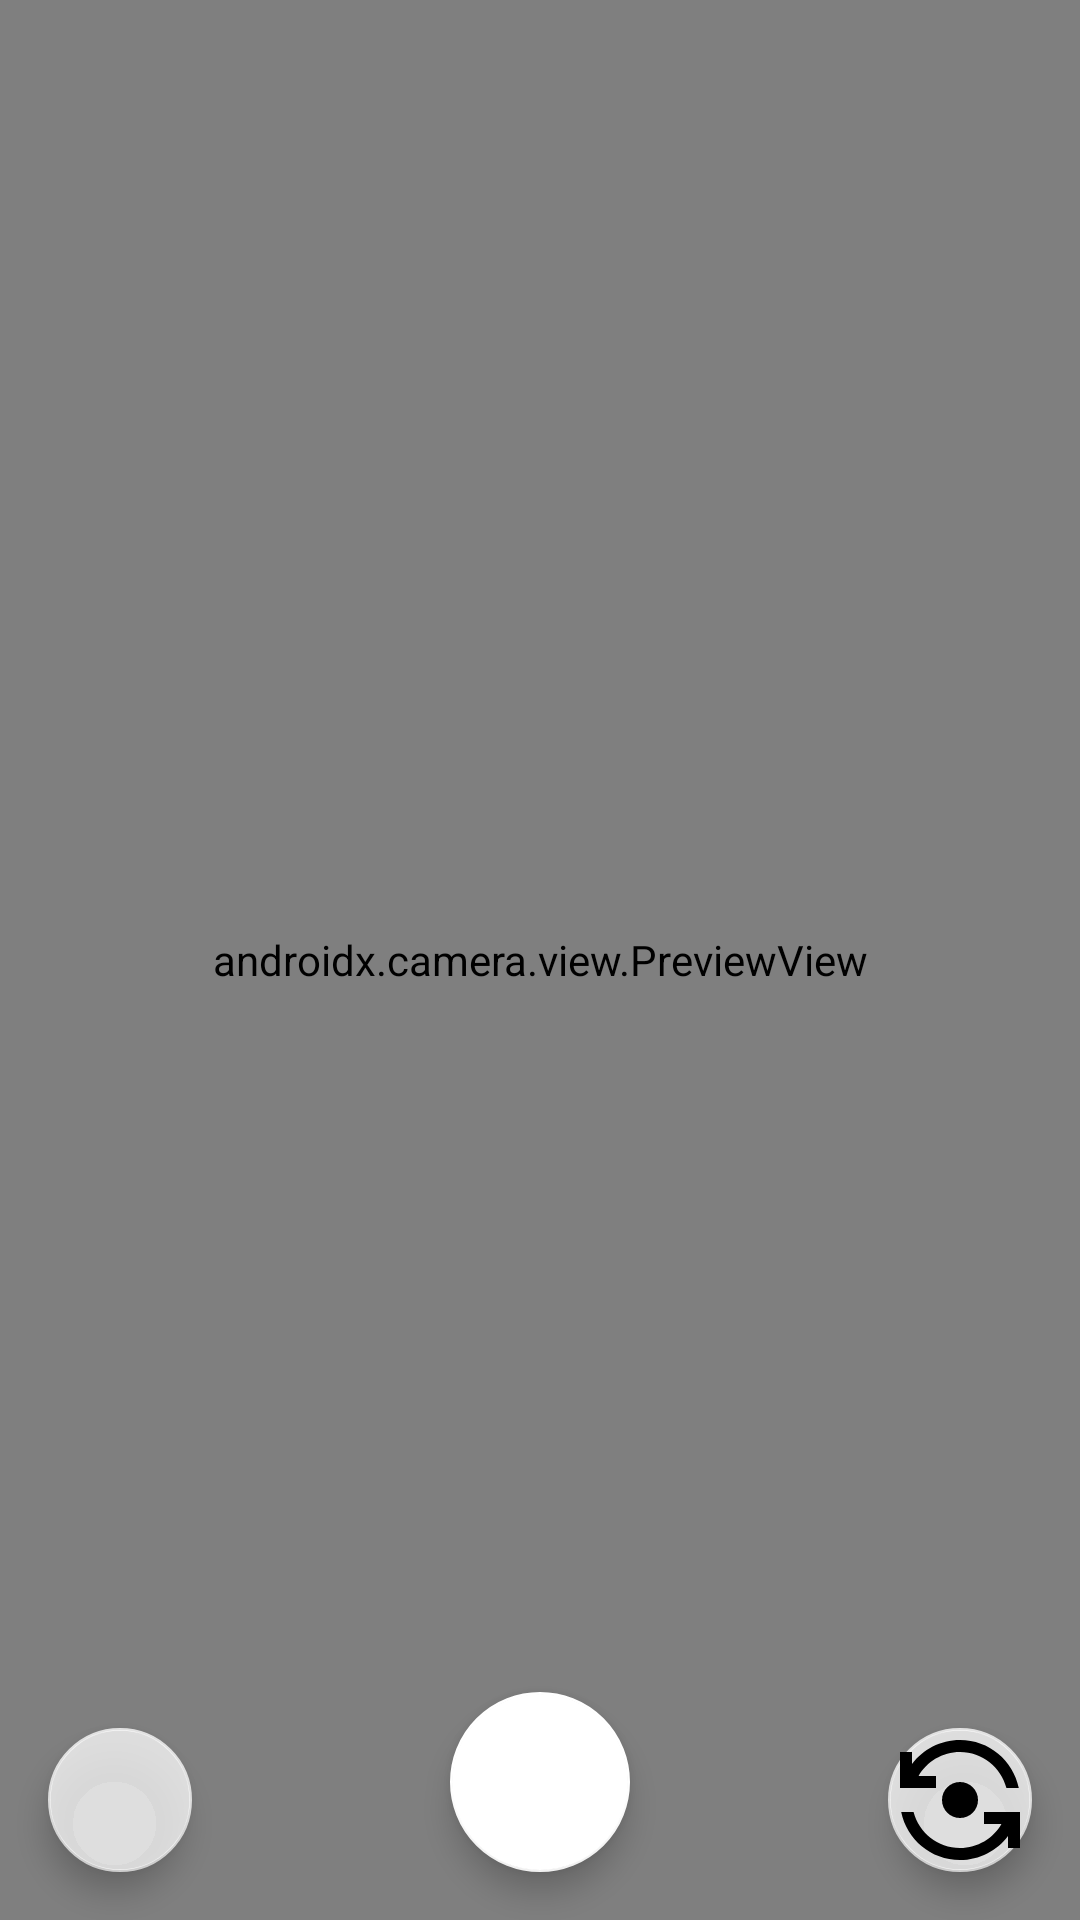

Screen size 1080*1920. Icon name, then its center in pixels as (x,y):
Switch Camera: (960,1800)
